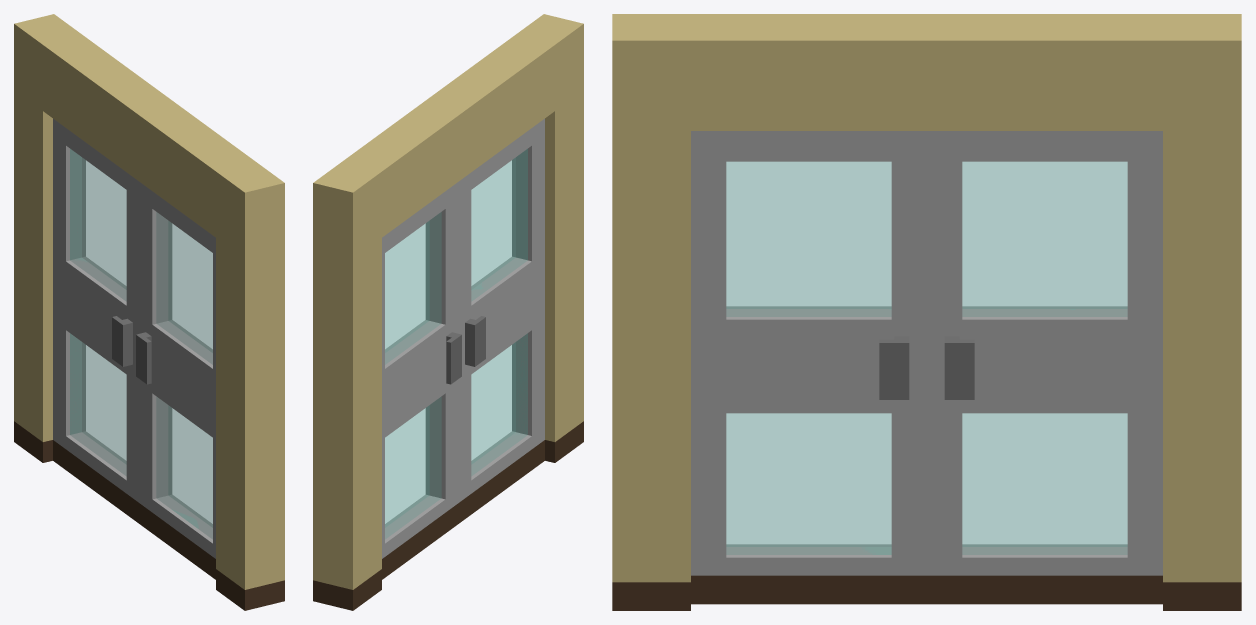
The model's file is Convenience Doorway.fbx.
3 views of the same model, side by side, from view 1: azimuth 30°, elevation 25°; view 2: azimuth 150°, elevation 25°; view 3: azimuth 270°, elevation 25° (orthographic). The views are drawn at different scales.
Visible parts, largest first — view 1: Convenience Doorway, Right Door, Left Door; view 2: Convenience Doorway, Left Door, Right Door; view 3: Convenience Doorway, Right Door, Left Door.
Boxes of the visible parts, x1,y1,x2,y2 form: Convenience Doorway: (14, 14, 284, 610); Right Door: (53, 118, 139, 523); Left Door: (136, 182, 215, 579); Convenience Doorway: (313, 14, 583, 610); Left Door: (458, 118, 544, 523); Right Door: (382, 182, 461, 579); Convenience Doorway: (612, 14, 1241, 610); Right Door: (927, 131, 1162, 604); Left Door: (691, 131, 926, 604).
Bounding box in the file's own units: 100 × 1000 × 1000.
